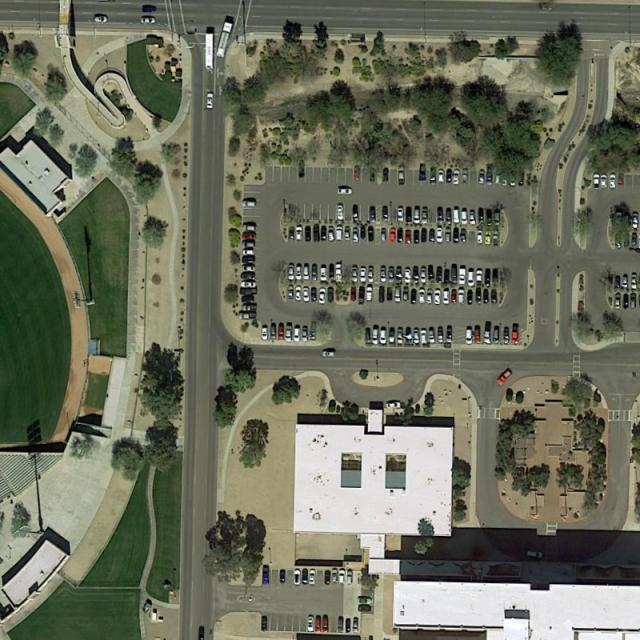vehicle: (216, 21, 234, 59), (204, 33, 215, 70), (495, 368, 514, 386), (482, 325, 492, 343), (366, 266, 376, 284), (484, 267, 493, 286), (510, 328, 520, 345), (318, 288, 328, 305), (456, 288, 466, 305), (298, 158, 306, 179), (437, 207, 446, 225), (262, 566, 270, 586), (301, 286, 311, 302), (306, 616, 315, 633), (308, 569, 317, 586), (269, 323, 278, 340), (502, 327, 511, 344), (428, 327, 437, 344), (445, 326, 454, 343), (469, 210, 478, 227), (396, 206, 405, 223), (318, 265, 327, 282), (449, 265, 458, 282), (285, 322, 293, 341), (398, 166, 406, 185), (358, 603, 373, 613), (403, 267, 413, 282), (335, 226, 345, 241), (322, 616, 330, 634), (278, 323, 286, 341), (206, 92, 215, 108), (430, 169, 438, 187), (452, 171, 461, 187), (494, 325, 502, 343), (474, 325, 482, 343), (240, 288, 258, 296), (241, 240, 257, 249), (419, 328, 428, 344), (437, 326, 446, 342), (310, 263, 318, 281), (446, 208, 454, 226), (421, 207, 429, 225), (334, 263, 343, 279), (434, 266, 443, 282), (475, 270, 484, 286), (238, 274, 258, 281), (414, 205, 421, 225), (331, 569, 339, 586), (302, 569, 310, 586), (418, 165, 426, 182), (353, 165, 361, 182), (394, 286, 402, 303), (302, 263, 310, 280), (371, 328, 379, 345), (352, 205, 360, 222), (367, 226, 375, 243), (436, 226, 444, 243), (486, 209, 494, 226), (478, 209, 486, 226), (350, 265, 358, 282), (379, 265, 387, 282), (442, 266, 450, 283), (525, 550, 542, 558), (369, 167, 378, 182), (592, 174, 601, 189), (261, 325, 270, 340), (412, 328, 421, 343), (458, 268, 467, 283), (412, 230, 422, 243), (356, 597, 372, 605), (346, 570, 354, 586), (294, 326, 302, 342), (461, 168, 469, 184), (486, 170, 494, 186), (336, 204, 344, 220), (287, 263, 295, 279), (366, 286, 374, 302), (442, 290, 450, 306), (405, 327, 413, 343), (492, 230, 500, 246), (382, 206, 390, 222), (428, 266, 436, 282), (467, 270, 475, 286), (320, 226, 328, 242), (630, 274, 638, 290), (630, 294, 638, 310), (140, 5, 158, 12), (315, 615, 322, 633), (617, 173, 626, 187), (433, 290, 442, 304), (240, 305, 258, 312), (380, 330, 389, 344), (397, 327, 404, 345), (420, 229, 429, 243), (494, 209, 501, 227), (382, 167, 390, 182), (519, 171, 527, 186), (358, 288, 366, 303), (418, 289, 426, 304), (238, 313, 258, 319), (242, 199, 257, 207), (389, 329, 397, 344), (369, 207, 377, 222), (296, 226, 304, 241), (313, 226, 321, 241), (327, 226, 335, 241), (614, 293, 622, 308), (279, 568, 286, 585), (478, 169, 485, 186), (502, 170, 509, 187), (609, 173, 616, 190), (337, 187, 354, 194), (241, 296, 258, 303), (460, 229, 469, 242), (475, 230, 484, 243), (239, 282, 258, 288), (305, 225, 311, 244), (94, 14, 108, 22), (140, 17, 156, 24), (338, 616, 345, 632), (352, 617, 359, 633), (324, 570, 331, 586), (322, 350, 336, 358), (286, 286, 294, 300), (294, 286, 301, 302), (327, 287, 334, 303), (378, 288, 386, 302), (426, 290, 434, 304), (451, 290, 459, 304), (466, 291, 474, 305), (466, 328, 473, 344), (385, 402, 401, 409), (242, 266, 258, 273), (240, 249, 256, 256), (445, 229, 453, 243), (462, 208, 469, 224), (453, 207, 460, 223), (406, 207, 413, 223), (360, 228, 368, 242), (419, 266, 426, 282), (288, 227, 296, 241), (344, 227, 352, 241), (630, 234, 638, 248), (615, 234, 622, 250), (622, 274, 630, 288), (633, 213, 640, 229), (338, 570, 345, 585), (350, 287, 357, 302), (403, 287, 410, 302), (410, 289, 417, 304), (475, 290, 482, 305), (364, 328, 371, 343), (296, 264, 303, 279), (397, 228, 404, 243), (405, 229, 412, 244), (359, 267, 366, 282), (413, 267, 420, 282), (615, 211, 622, 226), (380, 229, 388, 242), (346, 616, 352, 633), (294, 569, 300, 586), (601, 173, 607, 190), (198, 626, 205, 640), (438, 170, 445, 184), (242, 233, 256, 240), (242, 225, 256, 232), (429, 228, 436, 242), (484, 230, 491, 244), (261, 616, 267, 632), (303, 326, 309, 342), (510, 170, 516, 186), (329, 263, 335, 279), (624, 213, 630, 229), (446, 169, 453, 182), (386, 289, 393, 302), (491, 289, 498, 302), (312, 287, 318, 302), (242, 257, 257, 263), (389, 266, 395, 281), (624, 232, 630, 247), (624, 294, 630, 309), (484, 290, 490, 304), (389, 228, 395, 242), (353, 229, 359, 243), (396, 266, 402, 280), (614, 276, 620, 290), (538, 4, 552, 10), (454, 228, 459, 243), (639, 273, 640, 290)
